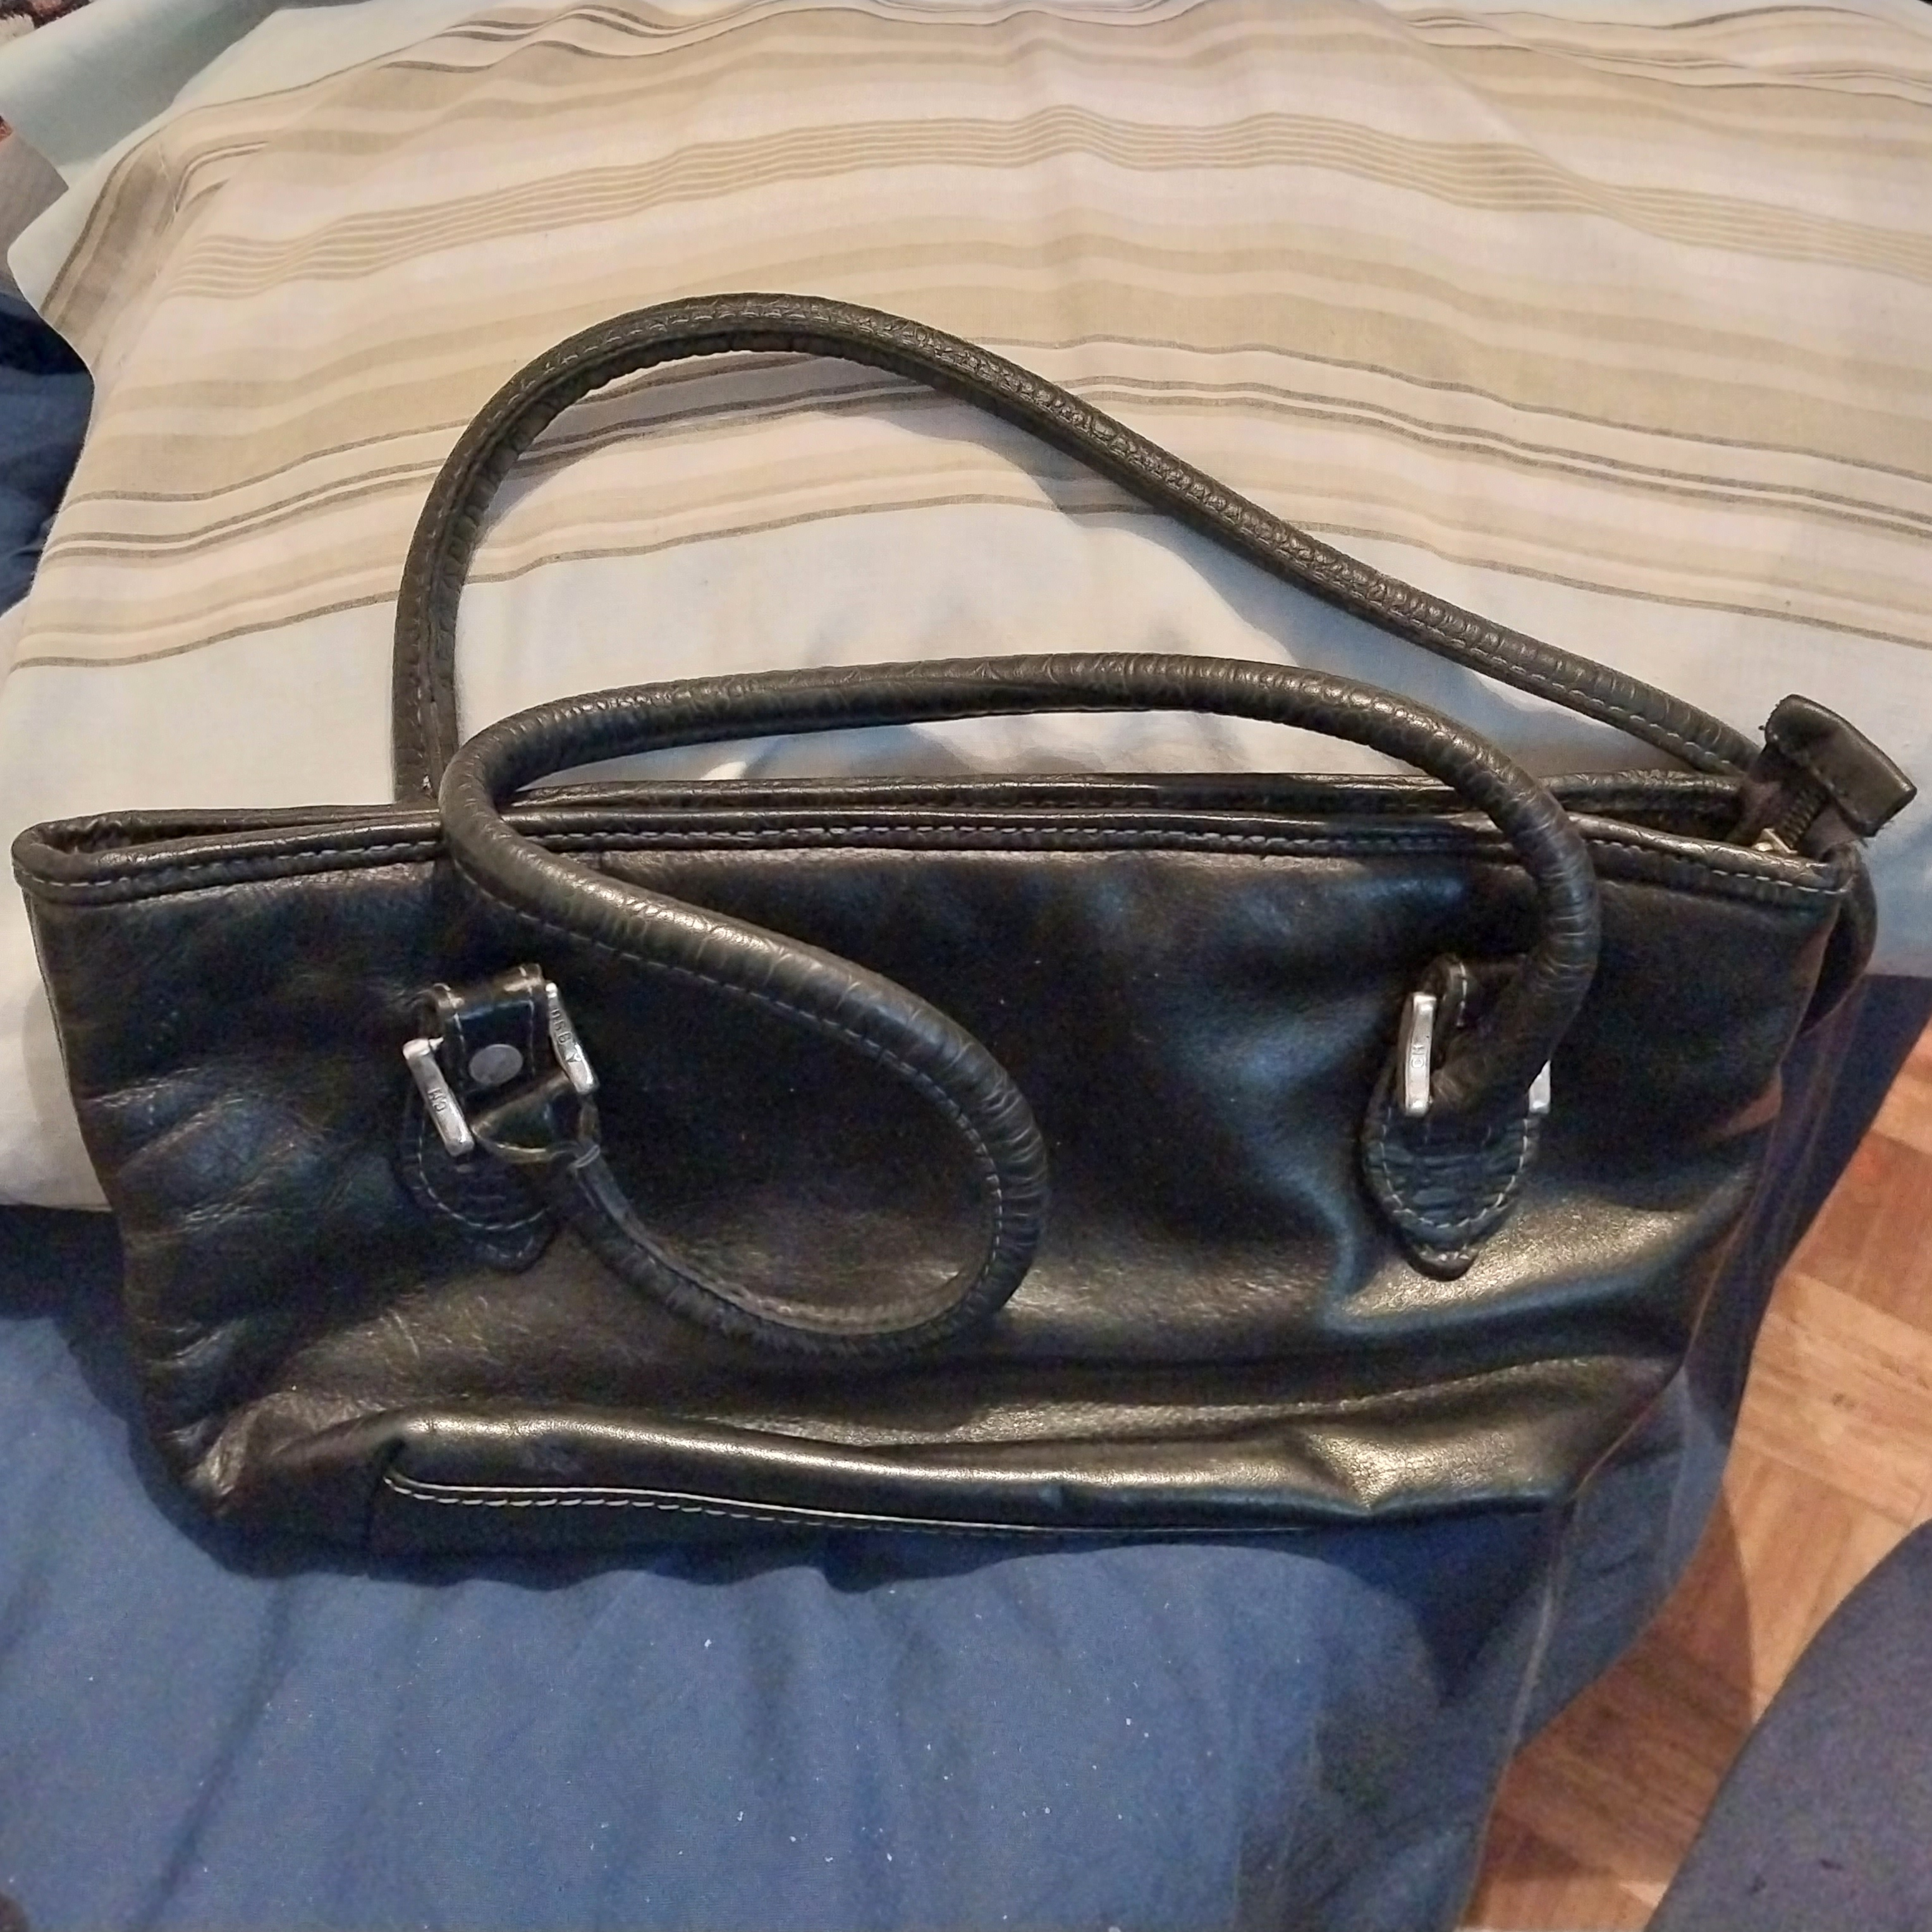cartera: (51, 847, 1762, 1511)
cuero: (138, 1000, 1350, 1493)
